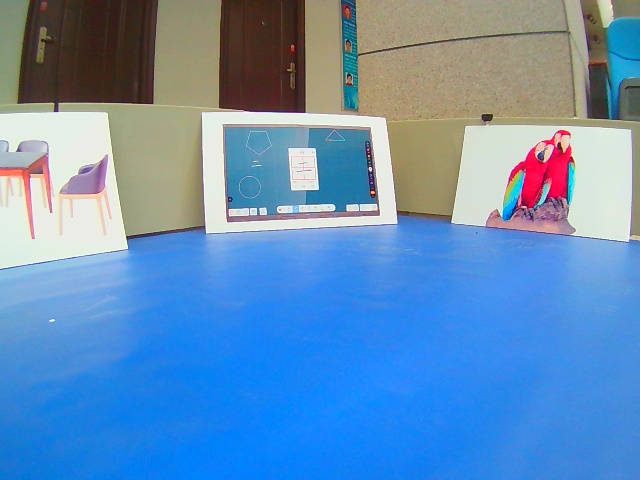pet: (451, 126, 635, 243)
tv: (200, 112, 399, 235)
